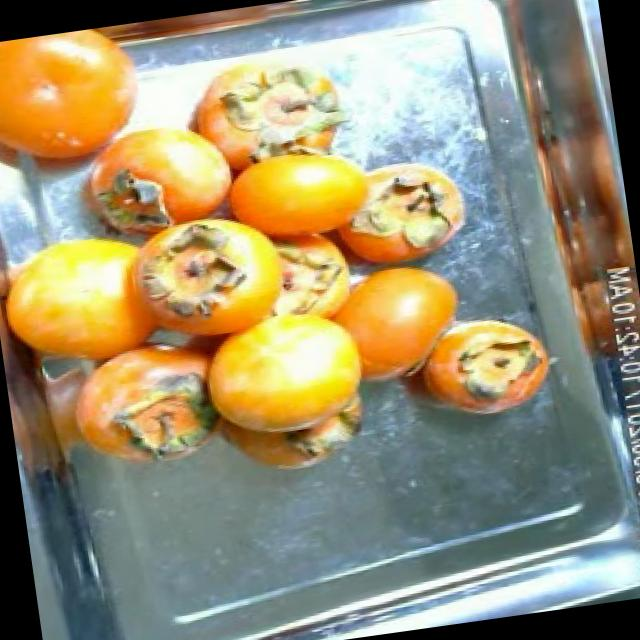Fruit: (181, 320, 395, 492), (302, 251, 486, 403), (415, 302, 564, 434)
